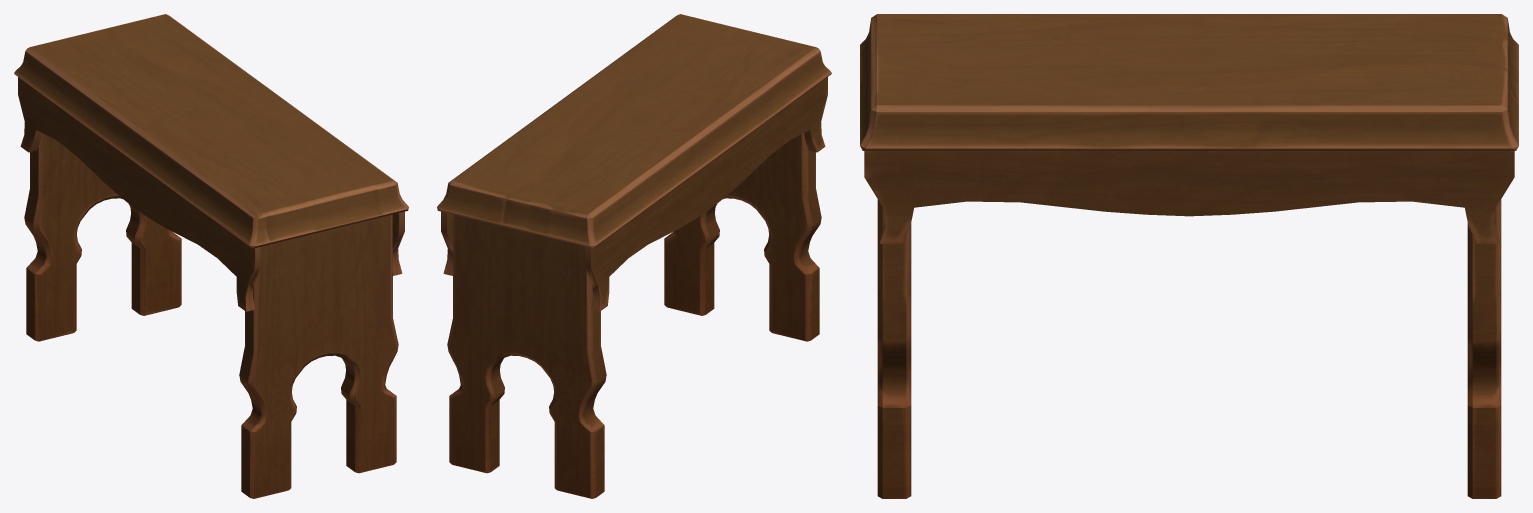
The model's file is medieval_chair_game_ready.glb.
3 views of the same model, side by side, from view 1: azimuth 30°, elevation 25°; view 2: azimuth 150°, elevation 25°; view 3: azimuth 270°, elevation 25° (orthographic). The views are drawn at different scales.
Parts seen in each view (by area): view 1: MedievalChair01; view 2: MedievalChair01; view 3: MedievalChair01.
Part boxes in pixels (x1=…): MedievalChair01: x1=14, y1=14, x2=408, y2=498; MedievalChair01: x1=437, y1=14, x2=831, y2=498; MedievalChair01: x1=860, y1=14, x2=1518, y2=498.
Bounding box in the file's own units: 0.4909 × 0.8431 × 1.28.
1 material, 1 textured.
